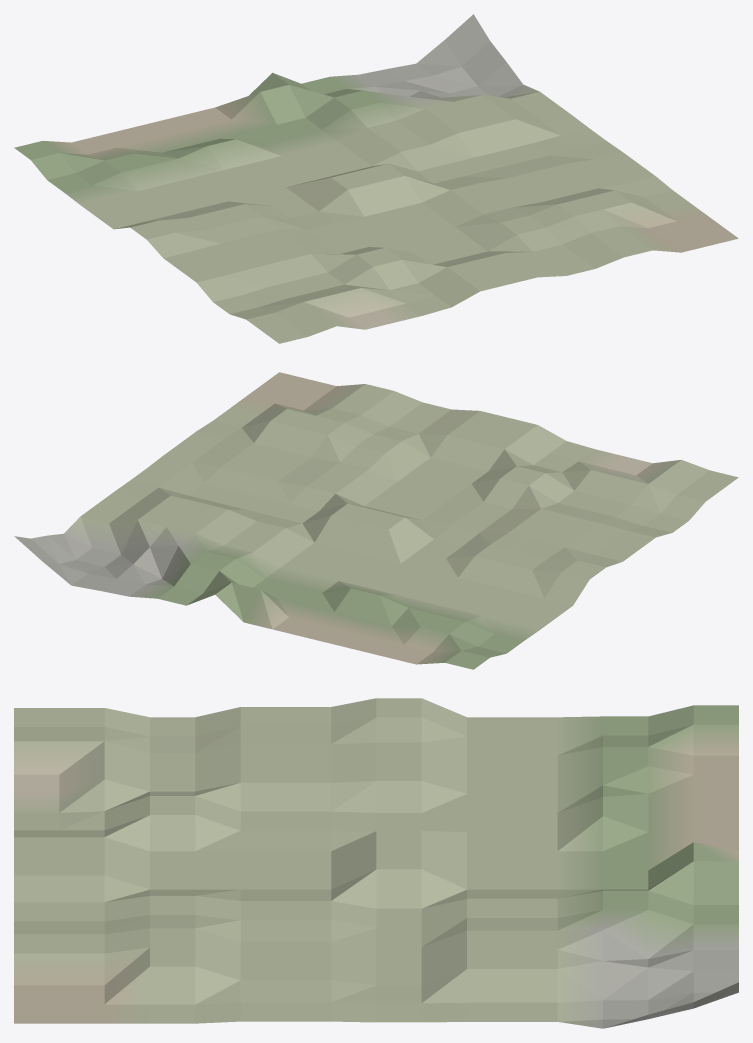
3 views of the same model, one above another, from view 1: azimuth 30°, elevation 25°; view 2: azimuth 150°, elevation 25°; view 3: azimuth 270°, elevation 25° (orthographic). The views are drawn at different scales.
Size of the model in its own units: 32 by 2.75 by 32.
